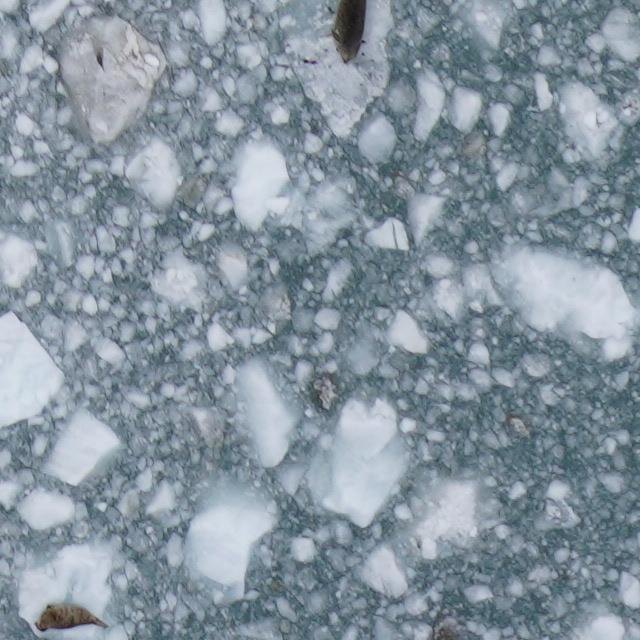seal: (326, 0, 372, 72), (28, 599, 113, 635)
